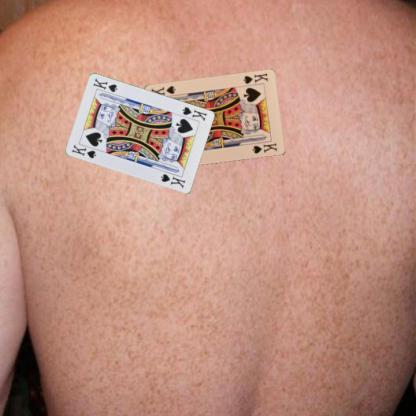Ks: (179, 104, 208, 122), (69, 142, 97, 160), (240, 71, 269, 85)
